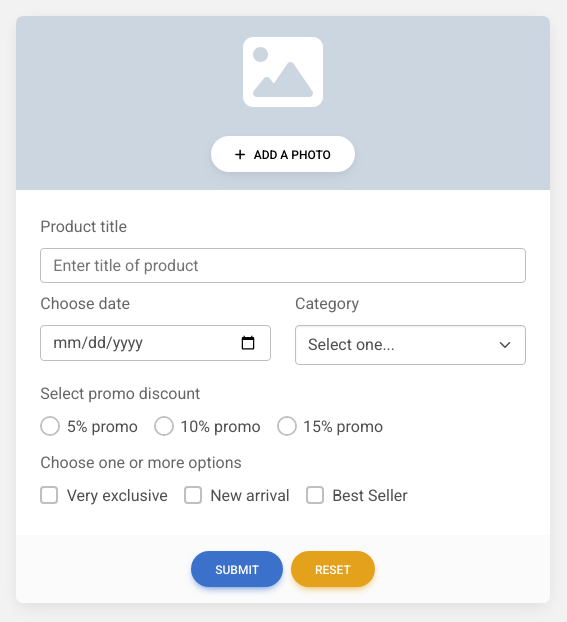
Test: Form page › Errors messages on empty submit
The image size is (567, 622).
(page scrolled)
Click the button with test id "submit-button": [237, 569] box x1=191 y1=551 x2=283 y2=587
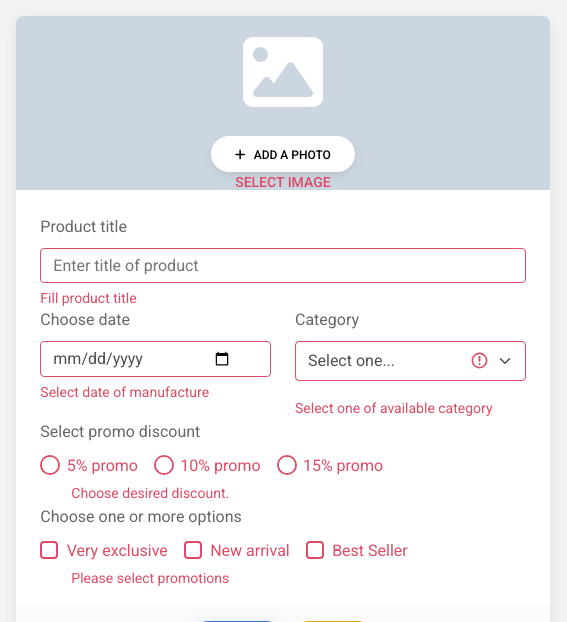
Expected: the text "Select image" is shown, x1=235 y1=172 x2=331 y2=193
Expected: the text "Fill product title" is shown, x1=40 y1=287 x2=137 y2=310
Expected: the text "Select date of manufacture" is shown, x1=40 y1=381 x2=209 y2=403
